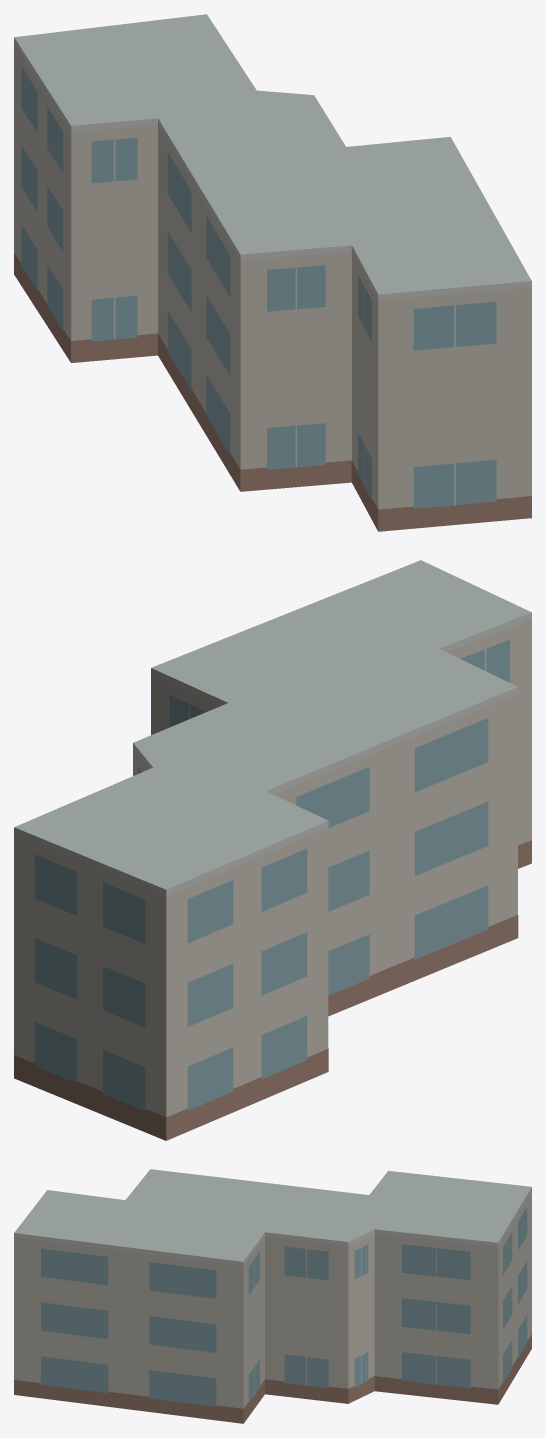
File: survey-upis-33032265.glb
3 views of the same model, one above another, from view 1: azimuth 30°, elevation 25°; view 2: azimuth 150°, elevation 25°; view 3: azimuth 270°, elevation 25° (orthographic). The views are drawn at different scales.
Parts seen in each view (by area): view 1: survey-upis-33032265.tmp; view 2: survey-upis-33032265.tmp; view 3: survey-upis-33032265.tmp.
Boxes of the visible parts, x1,y1,x2,y2 form: survey-upis-33032265.tmp: (14, 14, 531, 531); survey-upis-33032265.tmp: (14, 560, 531, 1140); survey-upis-33032265.tmp: (14, 1169, 531, 1423).
Bounding box in the file's own units: 11.34 × 9.22 × 26.73.
